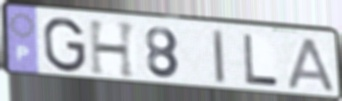8: (144, 25, 181, 80)
A: (285, 36, 338, 95)
G: (41, 16, 88, 74)
H: (87, 19, 138, 80)
I: (212, 28, 227, 87)
L: (241, 33, 281, 88)
